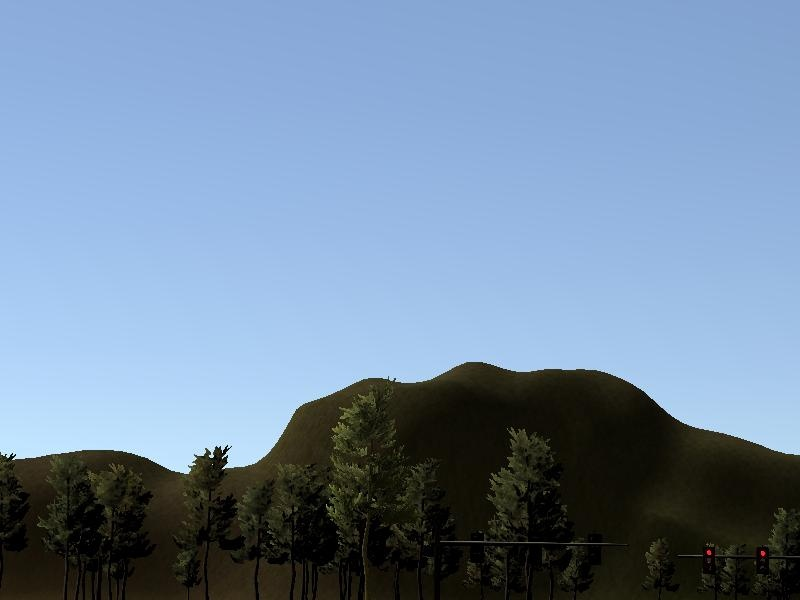RED: (751, 540, 775, 583), (698, 541, 717, 578)
